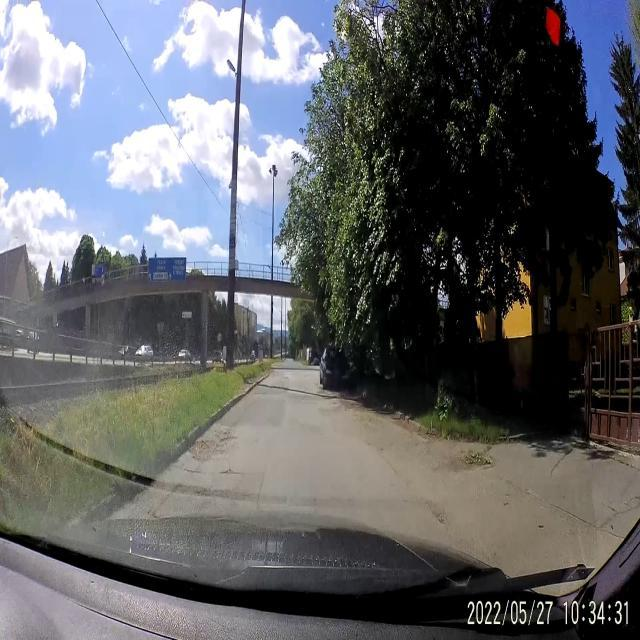Pothole: (188, 430, 234, 460), (430, 507, 448, 529), (222, 464, 241, 478)
